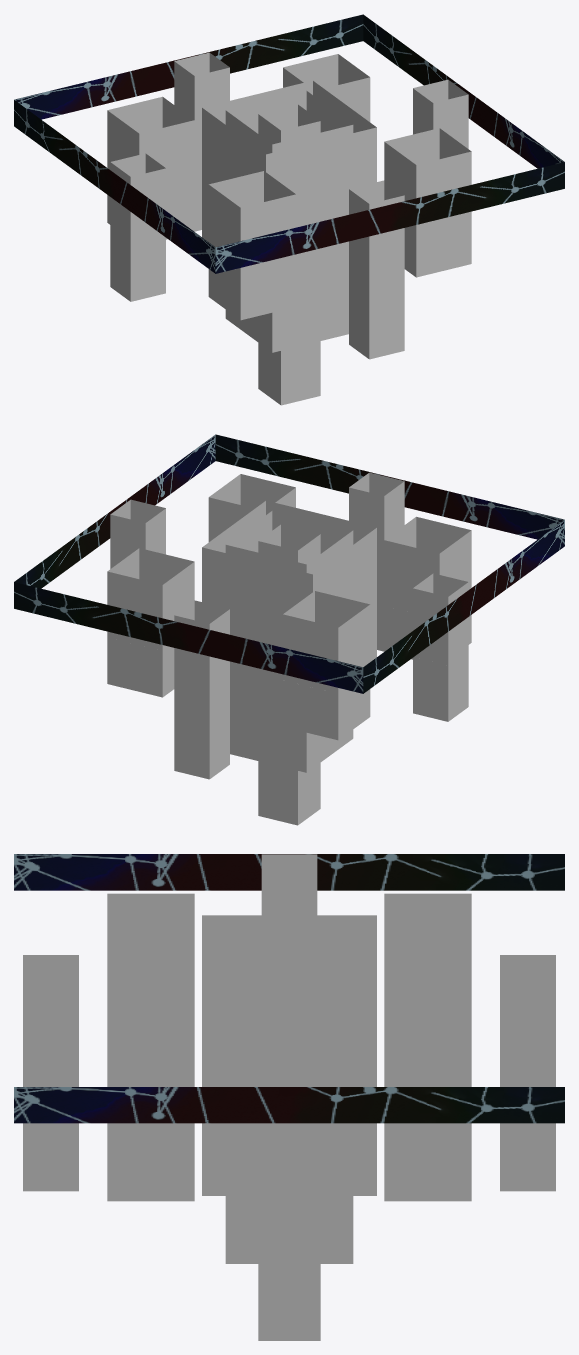
Rendered from Lamp_016.fbx.
The picture shows the model from 3 angles, top to bottom: view 1: azimuth 30°, elevation 25°; view 2: azimuth 150°, elevation 25°; view 3: azimuth 270°, elevation 25°; orthographic projection. The views are drawn at different scales.
Parts seen in each view (by area): view 1: Hall.158; view 2: Hall.158; view 3: Hall.158.
Boxes of the visible parts, x1,y1,x2,y2 form: Hall.158: [14, 14, 564, 405]; Hall.158: [14, 434, 564, 825]; Hall.158: [14, 854, 564, 1340].
Size of the model in its own units: 298 by 224 by 298.
